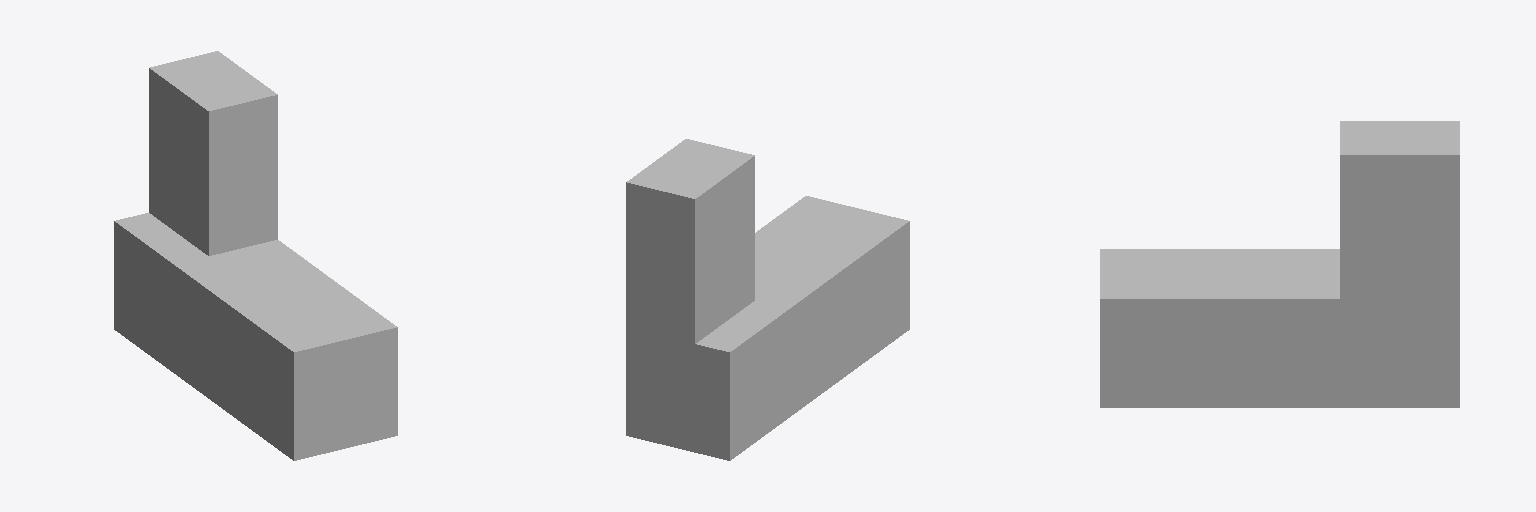
The model's file is leftarm.obj.
The picture shows the model from 3 angles: view 1: azimuth 30°, elevation 25°; view 2: azimuth 150°, elevation 25°; view 3: azimuth 270°, elevation 25°; orthographic projection.
Size of the model in its own units: 3 by 7 by 9.